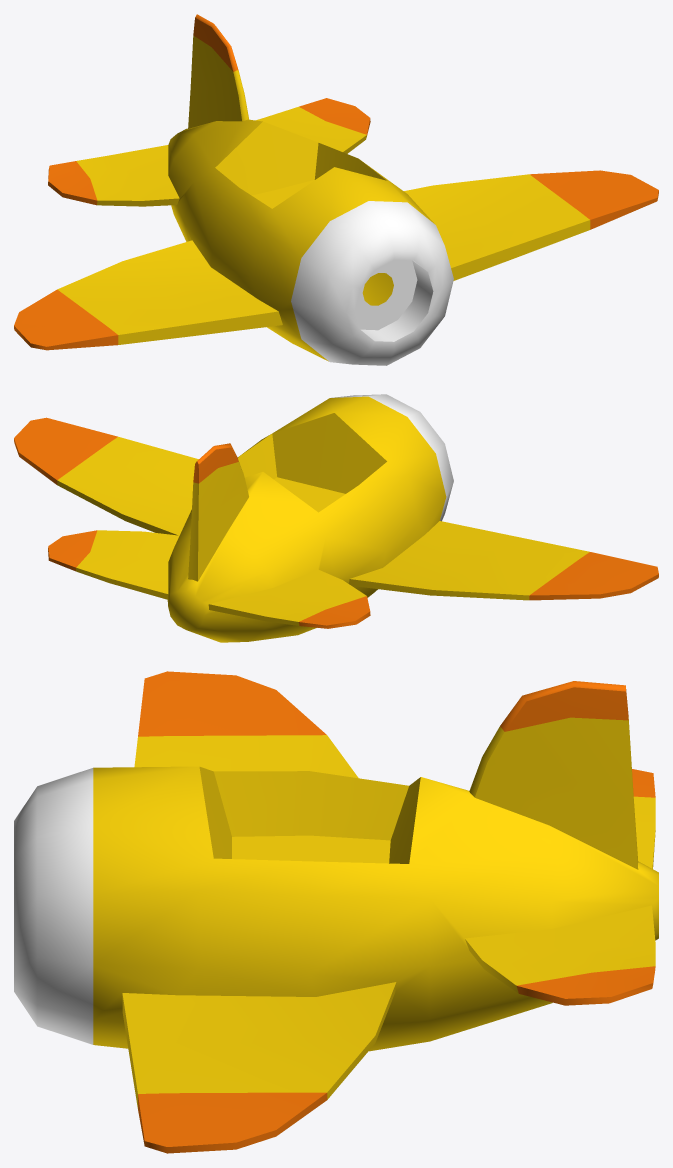
The model's file is Airplane.fbx.
The picture shows the model from 3 angles, top to bottom: view 1: azimuth 30°, elevation 25°; view 2: azimuth 150°, elevation 25°; view 3: azimuth 270°, elevation 25°; orthographic projection. The views are drawn at different scales.
Visible parts, largest first — view 1: Airplane; view 2: Airplane; view 3: Airplane.
Part boxes in pixels (left/top/right/bottom): Airplane: left=14, top=14, right=658, bottom=365; Airplane: left=14, top=394, right=658, bottom=642; Airplane: left=14, top=671, right=658, bottom=1153.
Size of the model in its own units: 261 by 93.75 by 150.
Materials: 1 (1 with a texture image).
